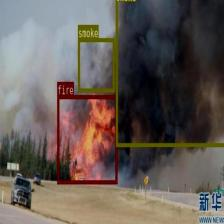fire: (57, 95, 117, 184)
smoke: (115, 0, 224, 146), (78, 37, 114, 92)
